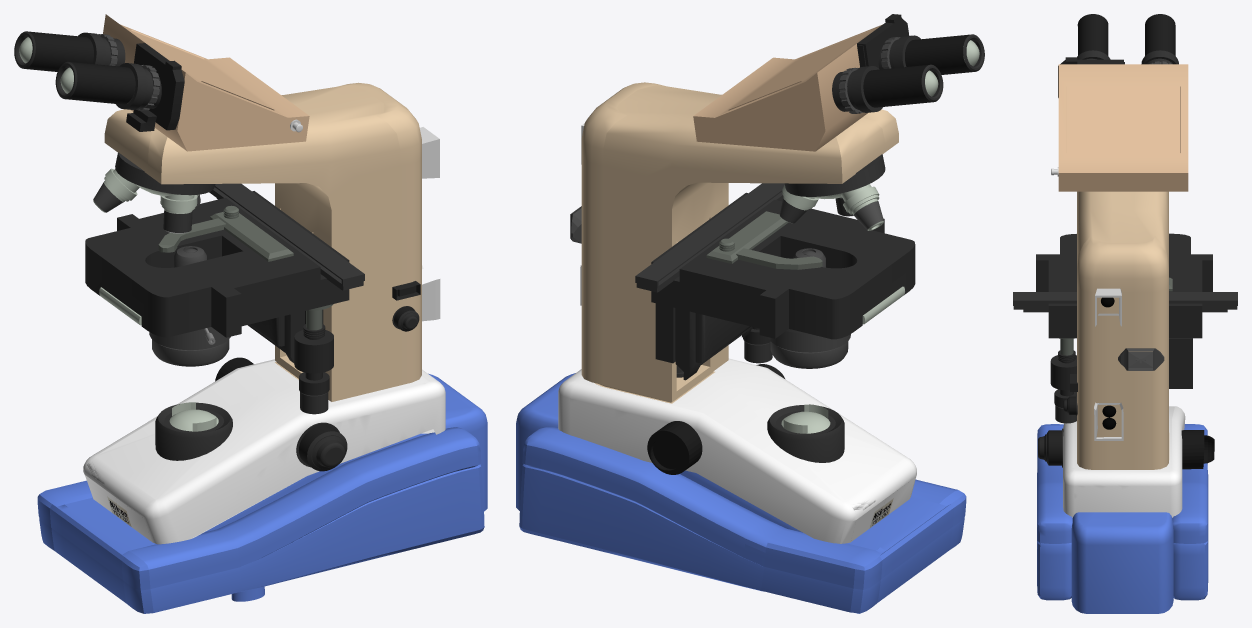
The model's file is microscopio.glb.
3 views of the same model, side by side, from view 1: azimuth 30°, elevation 25°; view 2: azimuth 150°, elevation 25°; view 3: azimuth 270°, elevation 25° (orthographic). The views are drawn at different scales.
Visible parts, largest first — view 1: Cubo.001, Cubo, Cubo.004, Cubo.008, Cubo.010, Cubo.006, Cilindro, Cubo.011, Cilindro.034, Cilindro.004, Cilindro.035, Cilindro.006 (+11 smaller); view 2: Cubo.001, Cubo, Cubo.004, Cubo.008, Cubo.010, Cubo.013, Cubo.006, Cilindro, Cilindro.035, Cilindro.001, Cilindro.034, Cubo.009 (+10 smaller); view 3: Cubo, Cubo.001, Cubo.010, Cubo.004, Cubo.008, Cubo.006, Cubo.013, Cilindro.001, Cilindro.035, Cilindro.034, Cilindro.004, Cubo.003 (+5 smaller).
Part boxes in pixels (x1,y1,x2,y2): Cubo.001: (37,373,487,613); Cubo: (104,82,421,401); Cubo.004: (83,359,445,544); Cubo.008: (85,191,349,337); Cubo.010: (103,14,309,151); Cubo.006: (209,183,364,290); Cilindro: (155,402,232,460); Cubo.011: (126,43,184,131); Cilindro.034: (60,61,135,104); Cilindro.004: (294,324,333,395); Cilindro.035: (25,31,93,71); Cilindro.006: (149,246,230,350); Cubo.001: (516,373,966,613); Cubo: (581,82,898,403); Cubo.004: (558,358,916,543); Cubo.008: (651,192,915,339); Cubo.010: (693,24,882,151); Cubo.013: (655,303,752,380); Cubo.006: (635,183,784,292); Cilindro: (767,405,844,462); Cilindro.035: (863,64,932,107); Cilindro.001: (647,421,702,474); Cilindro.034: (905,34,975,74); Cubo.009: (706,211,788,263); Cubo: (1077,191,1169,469); Cubo.001: (1037,424,1208,613); Cubo.010: (1058,64,1188,191); Cubo.004: (1063,406,1185,517); Cubo.008: (1036,233,1212,338); Cubo.006: (1013,292,1237,312); Cubo.013: (1169,338,1192,388); Cilindro.001: (1181,430,1214,469); Cilindro.035: (1145,14,1175,64); Cilindro.034: (1078,14,1108,59); Cilindro.004: (1050,350,1076,408); Cubo.003: (1118,348,1164,370).
Bounding box in the file's own units: 4.21 × 5.28 × 2.4.
Materials: 59 (1 with a texture image).
